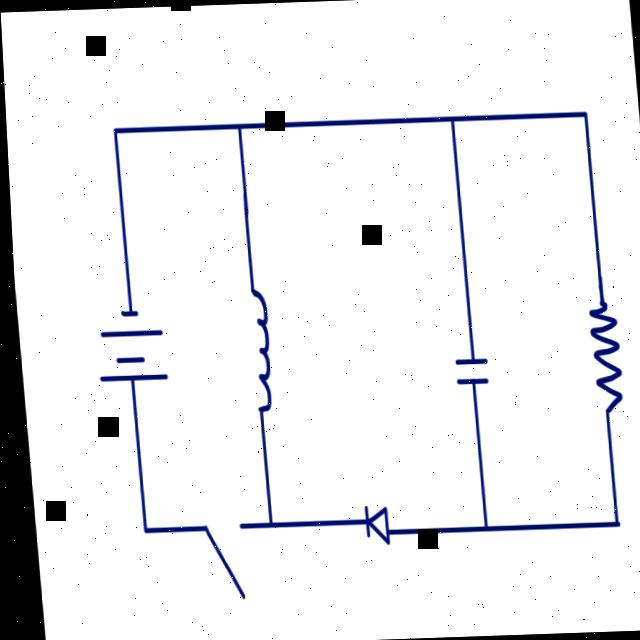capacitor: (434, 316, 495, 406)
diode: (342, 471, 398, 566)
inductor: (223, 265, 286, 439)
resistor: (569, 286, 631, 436)
source: (71, 274, 184, 400)
switch: (182, 494, 258, 604)
